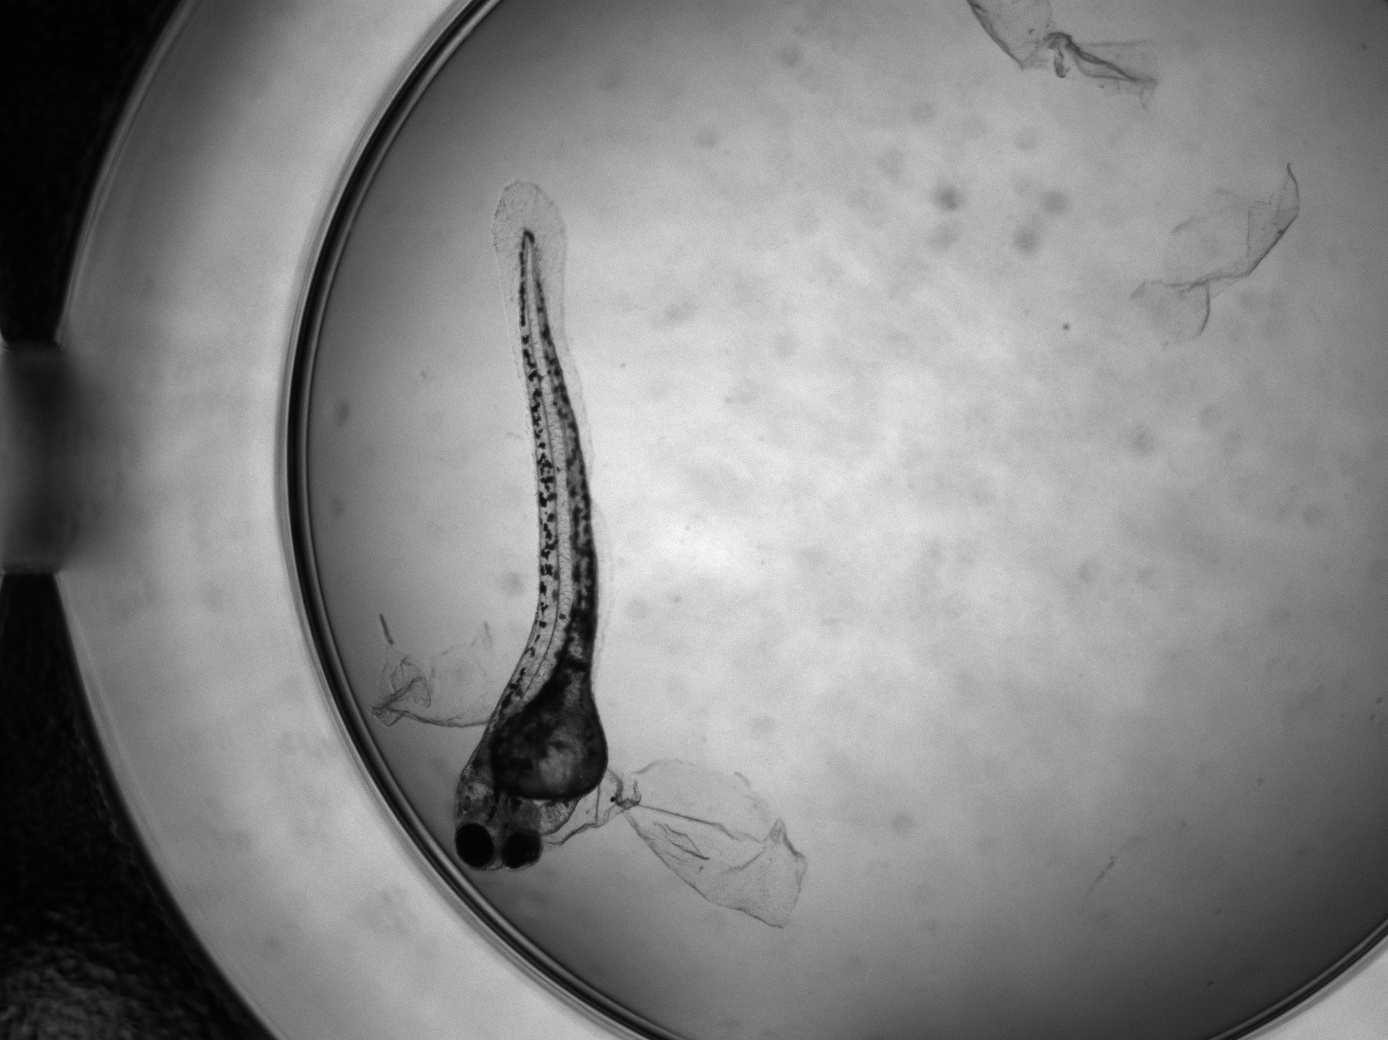debris: (617, 756, 806, 930), (1126, 158, 1300, 346), (969, 1, 1159, 105), (368, 612, 505, 730)
embryo: (449, 225, 610, 874)
eye: (455, 823, 493, 868), (501, 830, 542, 871)
yolksac: (491, 684, 610, 803)
